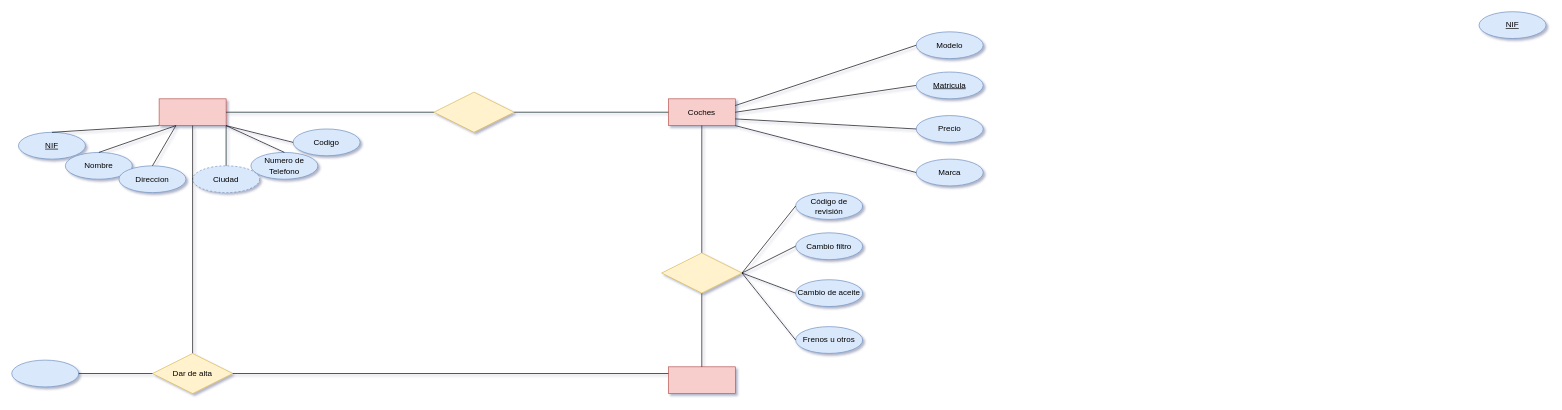
Image size: 1562x410. Some labels were removed from this diagram. The centre of each missing label's shape, as x and y in pixels:
Cliente: the point at 192,112
Compra: the point at 473,111
Consesionario: the point at 701,380
código de empresa: the point at 45,373
Revisa: the point at 701,272
